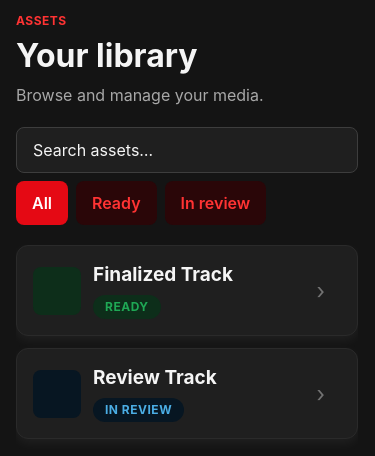
asset screens › T4: Library IA — search, filter, and zero-match states › HP-1: selecting a status filter hides assets with other statuses
expect the button with test id "asset-card-asset-fin" is shown: met, box [16,245,358,336]
Click the button with test id "asset-filter-finalized" at (116, 203), box [76,181,157,225]
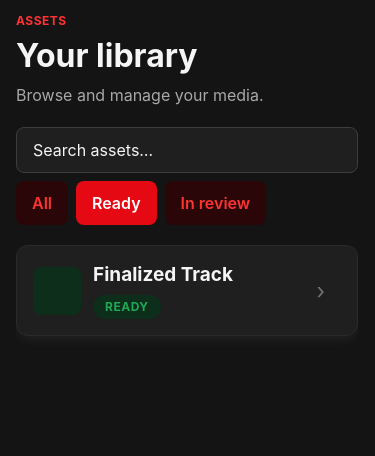
expect the button with test id "asset-card-asset-fin" is shown: met, box [16,245,358,336]
expect the button with test id "asset-card-asset-rev" is gone: met
